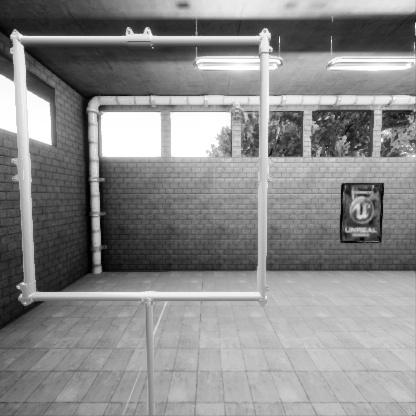gate: (8, 121, 293, 400)
